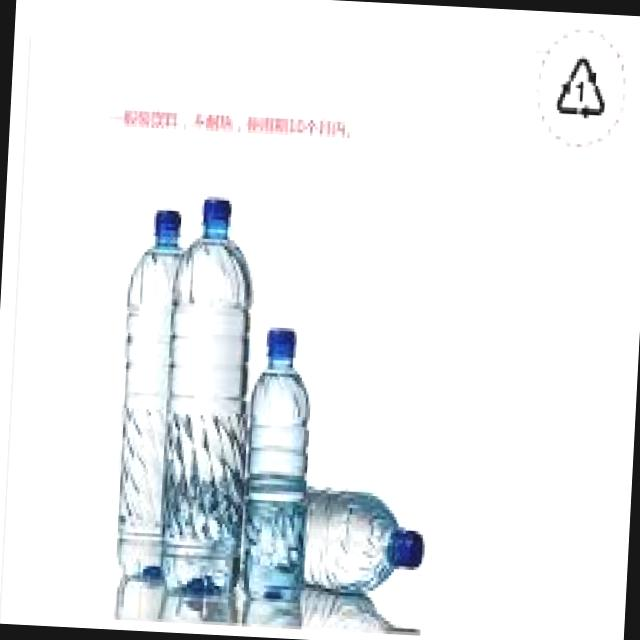bottle: (163, 197, 252, 593), (117, 210, 181, 578), (244, 328, 311, 599), (304, 490, 424, 593), (301, 588, 405, 634), (161, 588, 238, 626), (116, 567, 164, 622)
